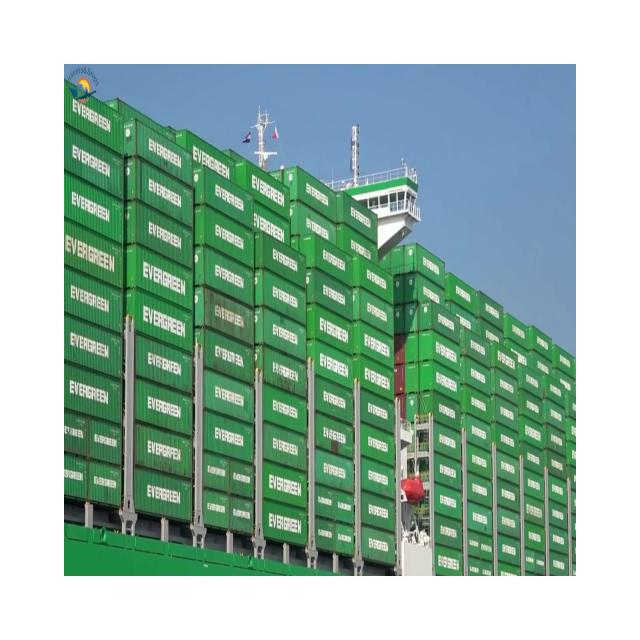OCR: (136, 294, 191, 344)
